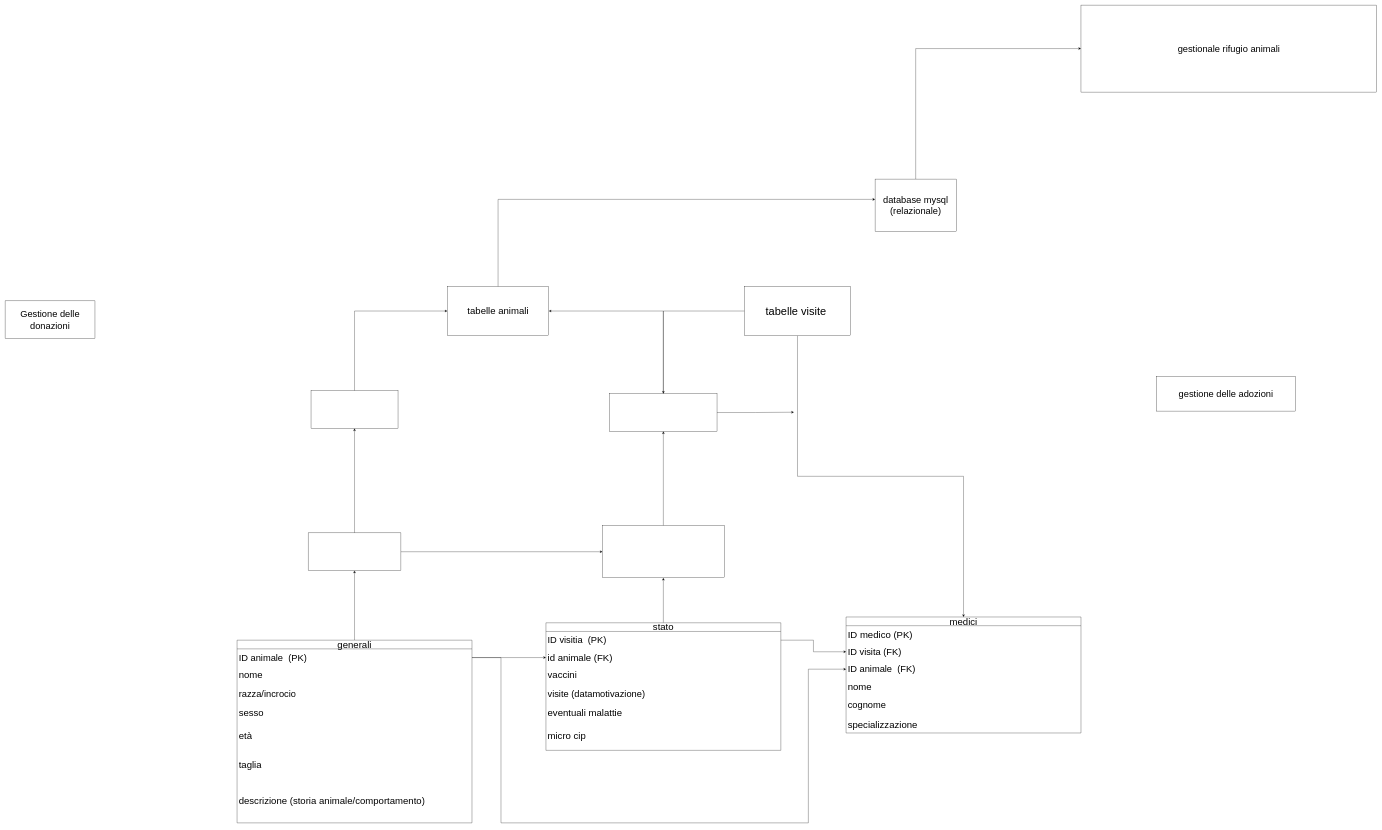
Image size: 1382x830. Some labels were removed from this diagram. Here are the shapes that lost their labels. From the top down, the centre of each, then its label:
At (x=354, y=409): "anagrafica degli animali".
At (x=663, y=412): "Gestione delle visite veterinarie".
At (x=354, y=552): "dati degli animali".
At (x=663, y=551): "stato di salute/visite".
